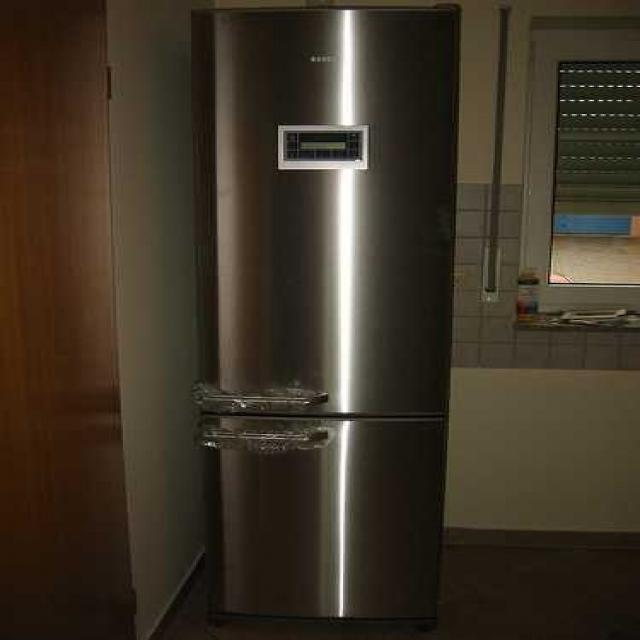refrigerator: (192, 4, 461, 630)
